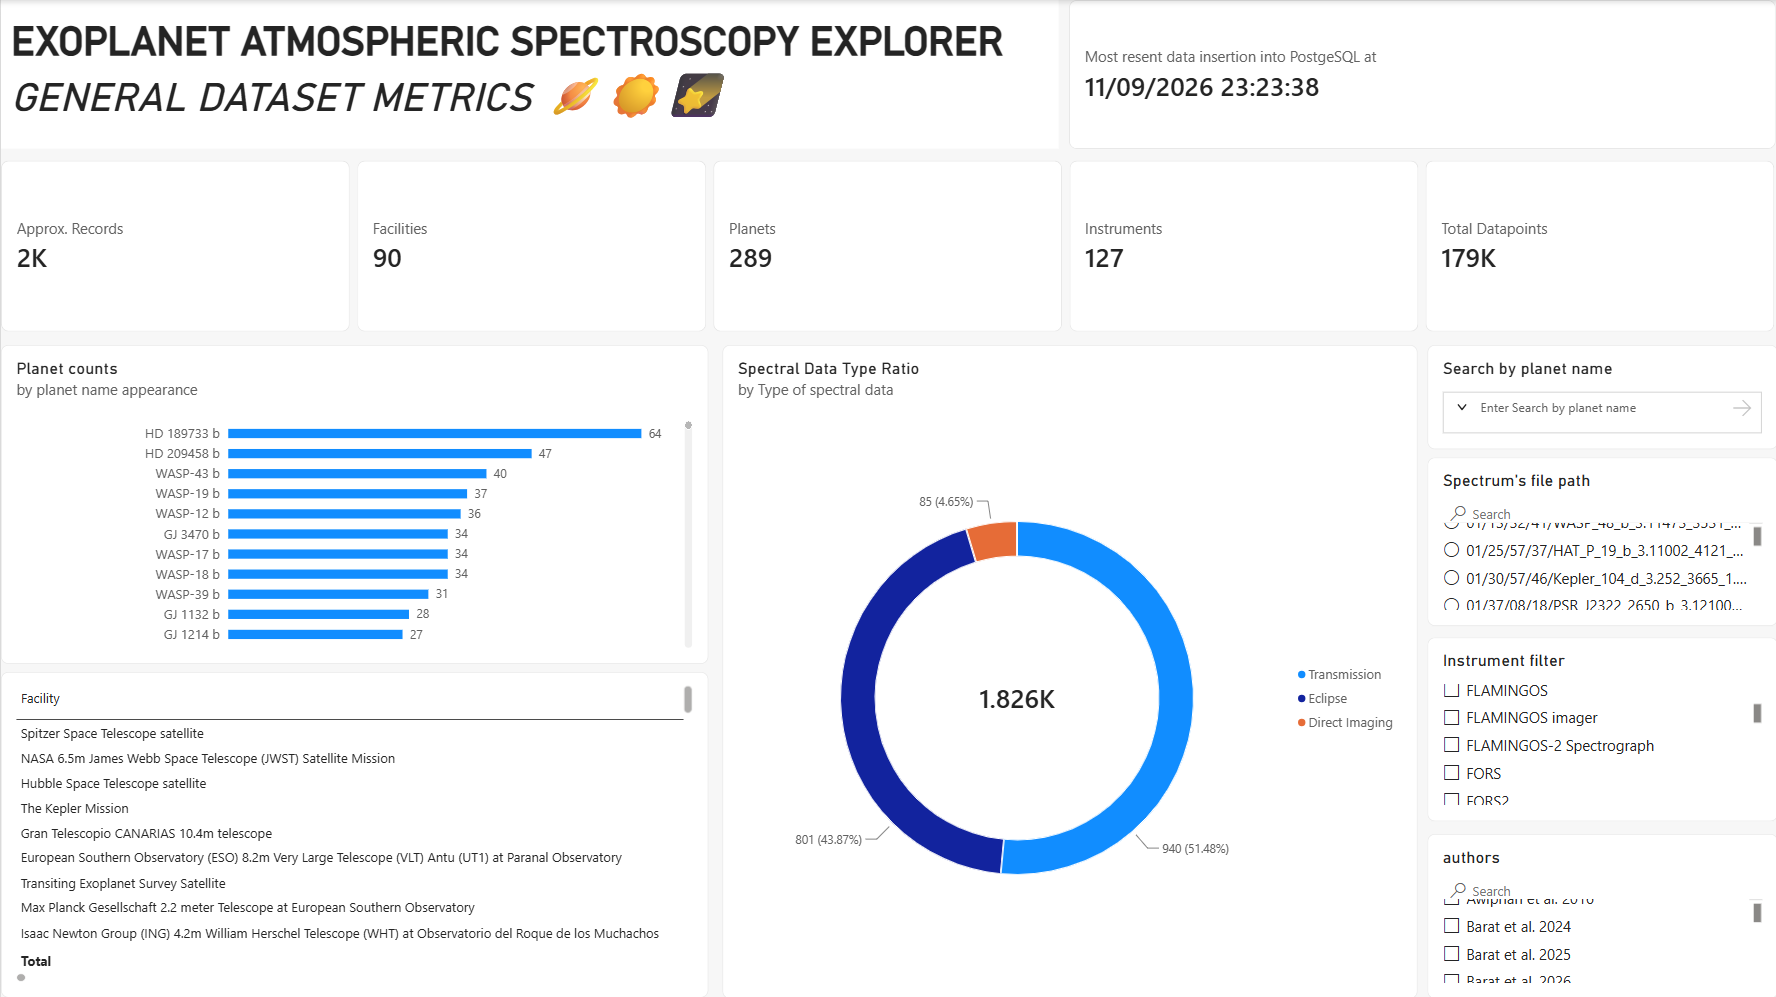

The page's visual inventory and layout, read from the dashboard file:
{"tool":"powerbi","page":{"name":"Page 1","canvas":[1920,1080],"ordinal":0},"visuals":[{"type":"textbox","box":[0,0,1143.2,160.5],"z":0},{"type":"cardVisual","fields":{"Data":["public facilities.Total Spectra","public facilities.Total Facilities","public facilities.Total Planets","public instruments.Instruments","public facilities.Total Datapoints"]},"box":[0,174.3,1920.6,185.5],"z":2000},{"type":"clusteredBarChart","fields":{"Category":["public planets.pl_name"],"Y":["CountNonNull(public spectra_files.planets_id)"]},"box":[0,372.9,764.5,344.8],"z":3000},{"type":"donutChart","fields":{"Category":["public spec_types.spec_type"],"Y":["CountNonNull(public spectra_files.spec_types_id)"]},"box":[779.5,372.9,751.4,706.4],"z":4000},{"type":"textSlicer","fields":{"Values":["public planets.pl_name"]},"box":[1542.1,372.9,378.5,112.4],"z":5000},{"type":"listSlicer","fields":{"Values":["public instruments.instrument"]},"box":[1542.1,689.6,378.5,198.6],"z":6000},{"type":"listSlicer","fields":{"Values":["public spectra_files.spec_path"]},"box":[1541.7,495.3,378.9,182.1],"z":7000},{"type":"pivotTable","fields":{"Rows":["public facilities.facility"],"Values":["CountNonNull(public spectra_files.facilities_id)"]},"box":[0,727,764.5,352.3],"z":8000},{"type":"listSlicer","fields":{"Values":["public publications.authors"]},"box":[1542.1,901.3,378.5,178],"z":9000},{"type":"cardVisual","fields":{"Data":["Min(public spectra_files.inserted_at)"]},"box":[1154.5,0,764.9,161.3],"z":10000}]}

Visuals, with their boxes in screenshot pixels (x1, y1, x2, y2), scaled from the page's 1920x1080 canvas onto the 1776x997 screenshot:
textbox: [0, 0, 1057, 148]
cardVisual - public facilities.Total Spectra x public facilities.Total Facilities: [0, 161, 1775, 332]
clusteredBarChart - public planets.pl_name x CountNonNull(public spectra_files.planets_id): [0, 344, 707, 663]
donutChart - public spec_types.spec_type x CountNonNull(public spectra_files.spec_types_id): [721, 344, 1416, 996]
textSlicer - public planets.pl_name: [1426, 344, 1775, 448]
listSlicer - public instruments.instrument: [1426, 637, 1775, 820]
listSlicer - public spectra_files.spec_path: [1426, 457, 1775, 625]
pivotTable - public facilities.facility x CountNonNull(public spectra_files.facilities_id): [0, 671, 707, 996]
listSlicer - public publications.authors: [1426, 832, 1775, 996]
cardVisual - Min(public spectra_files.inserted_at): [1068, 0, 1775, 149]
